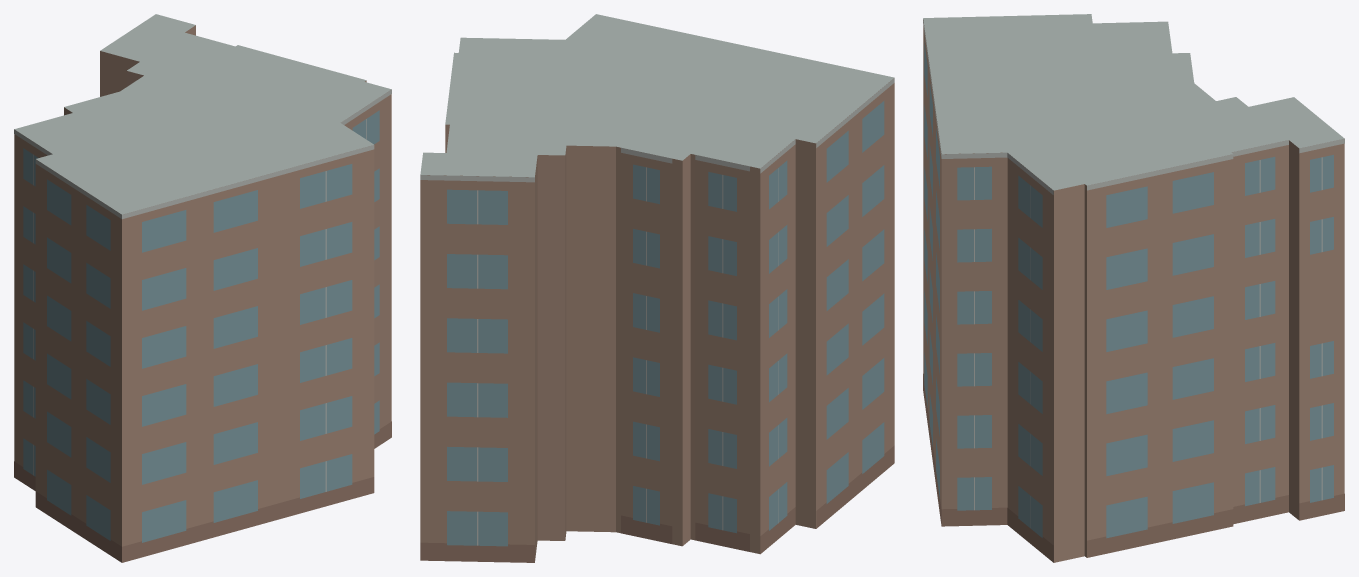
File: survey-upis-32666589.glb
The picture shows the model from 3 angles, left to right: view 1: azimuth 30°, elevation 25°; view 2: azimuth 150°, elevation 25°; view 3: azimuth 270°, elevation 25°; orthographic projection. The views are drawn at different scales.
Visible parts, largest first — view 1: survey-upis-32666589.tmp; view 2: survey-upis-32666589.tmp; view 3: survey-upis-32666589.tmp.
Boxes of the visible parts, x1=… form: survey-upis-32666589.tmp: x1=14, y1=14, x2=391, y2=562; survey-upis-32666589.tmp: x1=420, y1=14, x2=894, y2=562; survey-upis-32666589.tmp: x1=923, y1=14, x2=1344, y2=562.
Size of the model in its own units: 18.88 by 18.55 by 19.05.
